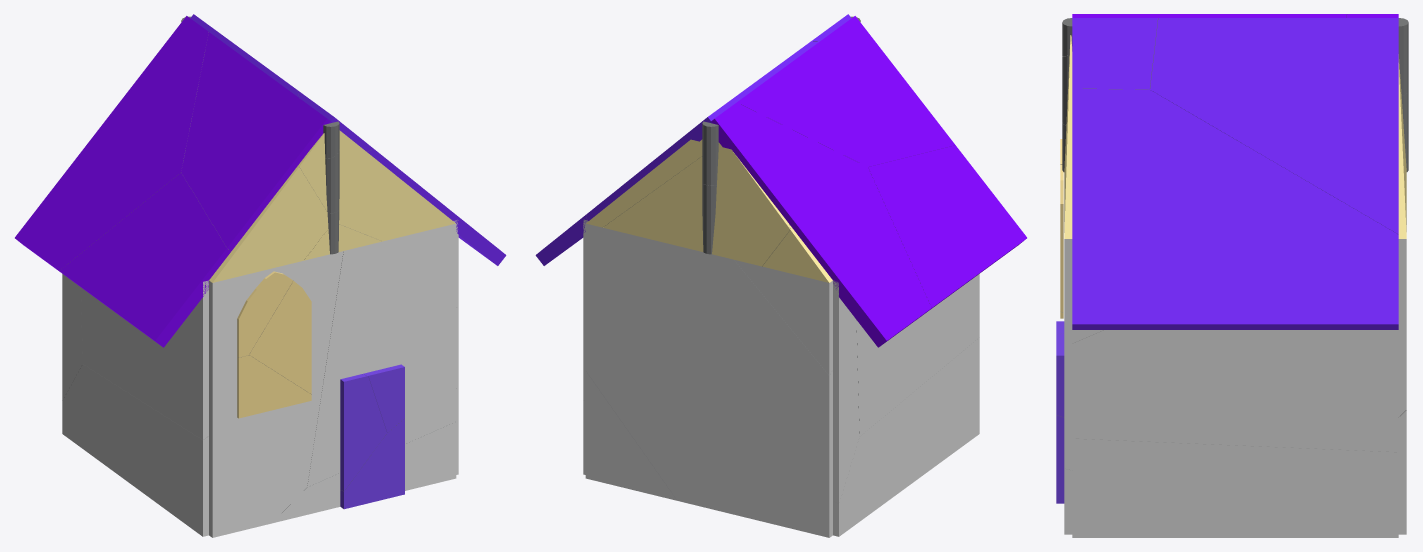
File: HouseA_Broken.fbx
3 renders of one model, left to right at view 1: azimuth 30°, elevation 25°; view 2: azimuth 150°, elevation 25°; view 3: azimuth 270°, elevation 25°, orthographic. The views are drawn at different scales.
Visible parts, largest first — view 1: Home.012_cell, Home.012_cell.001, Home.017_cell.002, Home.017_cell.001, Home.017_cell, Home.014_cell.002, Home.014_cell.001, Home.018_cell.002, Home.018_cell.001, Home.012_cell.002, Home.002_cell.002, Home.019_cell.002 (+10 smaller); view 2: Home.015_cell, Home.017_cell.002, Home.017_cell.001, Home.017_cell, Home.014_cell.002, Home.020_cell, Home.014_cell.001, Home.015_cell.001, Home.015_cell.002, Home.014_cell, Home.020_cell.001, Home.016_cell.001 (+4 smaller); view 3: Home.016_cell, Home.013_cell.002, Home.016_cell.001, Home.013_cell.001, Home.016_cell.002, Home.012_cell, Home.015_cell, Home.018_cell.002, Home.017_cell.001, Home.015_cell.001, Home.020_cell.001, Home.019_cell.001 (+5 smaller).
Boxes of the visible parts, <box> form: Home.012_cell: <box>307,223,456,486</box>; Home.012_cell.001: <box>209,251,343,537</box>; Home.017_cell.002: <box>15,16,208,275</box>; Home.017_cell.001: <box>181,32,331,251</box>; Home.017_cell: <box>59,173,230,347</box>; Home.014_cell.002: <box>62,364,208,536</box>; Home.014_cell.001: <box>81,280,208,439</box>; Home.018_cell.002: <box>298,130,455,241</box>; Home.018_cell.001: <box>209,165,328,282</box>; Home.012_cell.002: <box>272,422,456,523</box>; Home.002_cell.002: <box>249,281,311,394</box>; Home.019_cell.002: <box>340,374,387,491</box>; Home.015_cell: <box>585,223,832,537</box>; Home.017_cell.002: <box>711,102,931,347</box>; Home.017_cell.001: <box>737,16,955,166</box>; Home.017_cell: <box>868,145,1026,311</box>; Home.014_cell.002: <box>833,337,979,536</box>; Home.020_cell: <box>603,143,790,266</box>; Home.014_cell.001: <box>856,274,979,436</box>; Home.015_cell.001: <box>585,371,677,500</box>; Home.015_cell.002: <box>734,260,832,375</box>; Home.014_cell: <box>833,280,859,503</box>; Home.020_cell.001: <box>586,139,719,227</box>; Home.016_cell.001: <box>586,41,819,220</box>; Home.016_cell: <box>1072,88,1398,329</box>; Home.013_cell.002: <box>1072,330,1398,452</box>; Home.016_cell.001: <box>1149,18,1398,234</box>; Home.013_cell.001: <box>1072,438,1398,537</box>; Home.016_cell.002: <box>1072,18,1157,89</box>; Home.012_cell: <box>1064,239,1072,470</box>; Home.015_cell: <box>1398,239,1406,416</box>; Home.018_cell.002: <box>1064,35,1072,238</box>; Home.017_cell.001: <box>1072,14,1346,17</box>; Home.015_cell.001: <box>1398,410,1406,534</box>; Home.020_cell.001: <box>1398,54,1406,238</box>; Home.019_cell.001: <box>1056,415,1064,503</box>.
Bounding box in the file's own units: 5.77 × 6.08 × 4.33.
